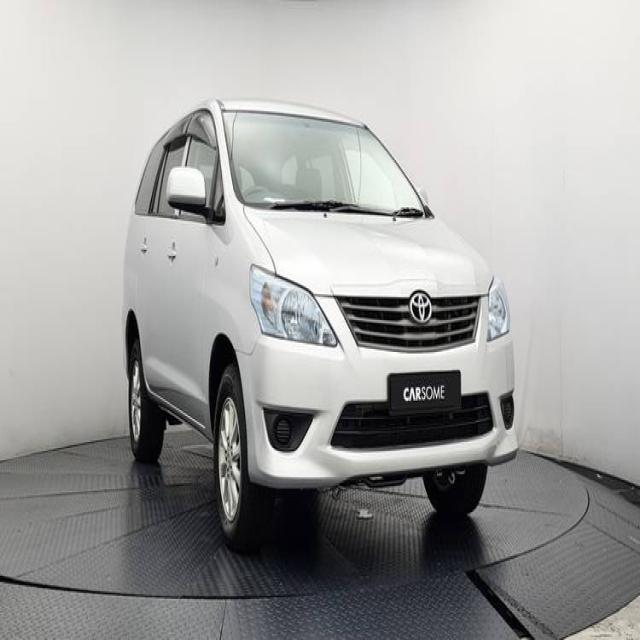light_vehicle: (122, 98, 520, 552)
